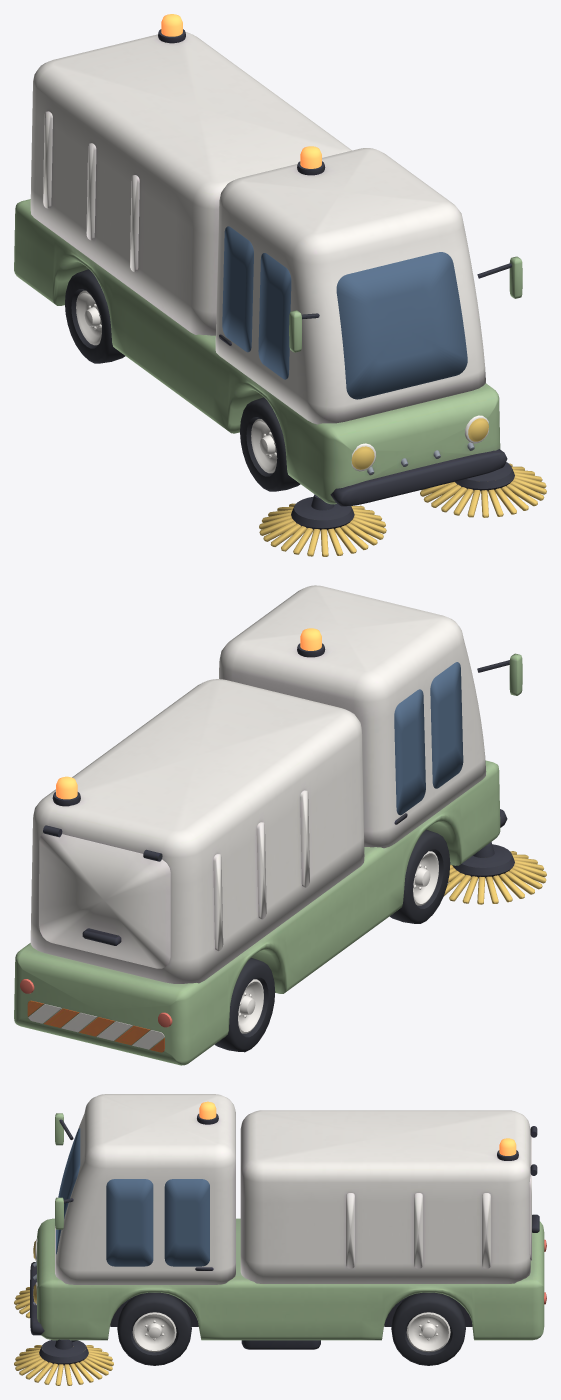
Rendered from street-sweeper.glb.
3 renders of one model, top to bottom at view 1: azimuth 30°, elevation 25°; view 2: azimuth 150°, elevation 25°; view 3: azimuth 270°, elevation 25°, orthographic. The views are drawn at different scales.
Parts seen in each view (by area): view 1: street-sweeper_body, street-sweeper_windows, street-sweeper_brush_r, street-sweeper_brush_l, street-sweeper_wheel_rr, street-sweeper_wheel_fr, street-sweeper_headlights; view 2: street-sweeper_body, street-sweeper_windows, street-sweeper_brush_r, street-sweeper_wheel_fr, street-sweeper_wheel_rr; view 3: street-sweeper_body, street-sweeper_windows, street-sweeper_wheel_rl, street-sweeper_wheel_fl, street-sweeper_brush_l.
Part boxes in pixels (x1=…): street-sweeper_body: x1=14, y1=29, x2=522, y2=506; street-sweeper_windows: x1=222, y1=226, x2=467, y2=399; street-sweeper_brush_r: x1=259, y1=494, x2=386, y2=556; street-sweeper_brush_l: x1=420, y1=462, x2=546, y2=517; street-sweeper_wheel_rr: x1=65, y1=269, x2=125, y2=363; street-sweeper_wheel_fr: x1=240, y1=397, x2=300, y2=491; street-sweeper_headlights: x1=351, y1=415, x2=488, y2=471; street-sweeper_body: x1=14, y1=585, x2=522, y2=1065; street-sweeper_windows: x1=394, y1=662, x2=463, y2=815; street-sweeper_brush_r: x1=443, y1=842, x2=546, y2=904; street-sweeper_wheel_fr: x1=389, y1=829, x2=450, y2=923; street-sweeper_wheel_rr: x1=214, y1=958, x2=275, y2=1052; street-sweeper_body: x1=30, y1=1094, x2=544, y2=1349; street-sweeper_windows: x1=56, y1=1128, x2=209, y2=1266; street-sweeper_wheel_rl: x1=391, y1=1292, x2=465, y2=1365; street-sweeper_wheel_fl: x1=117, y1=1292, x2=191, y2=1365; street-sweeper_brush_l: x1=14, y1=1339, x2=113, y2=1385.
Bounding box in the file's own units: 2.16 × 2.27 × 4.71.
Materials: 21 (3 with a texture image).
